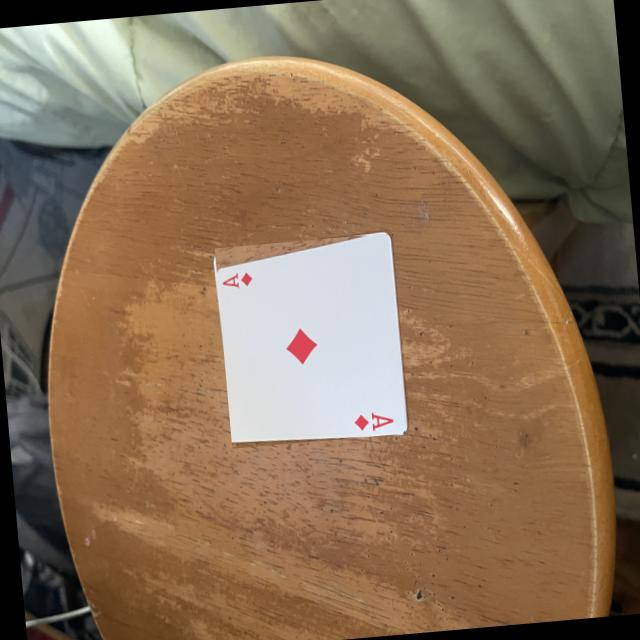Ace of diamonds: (219, 233, 404, 436)
